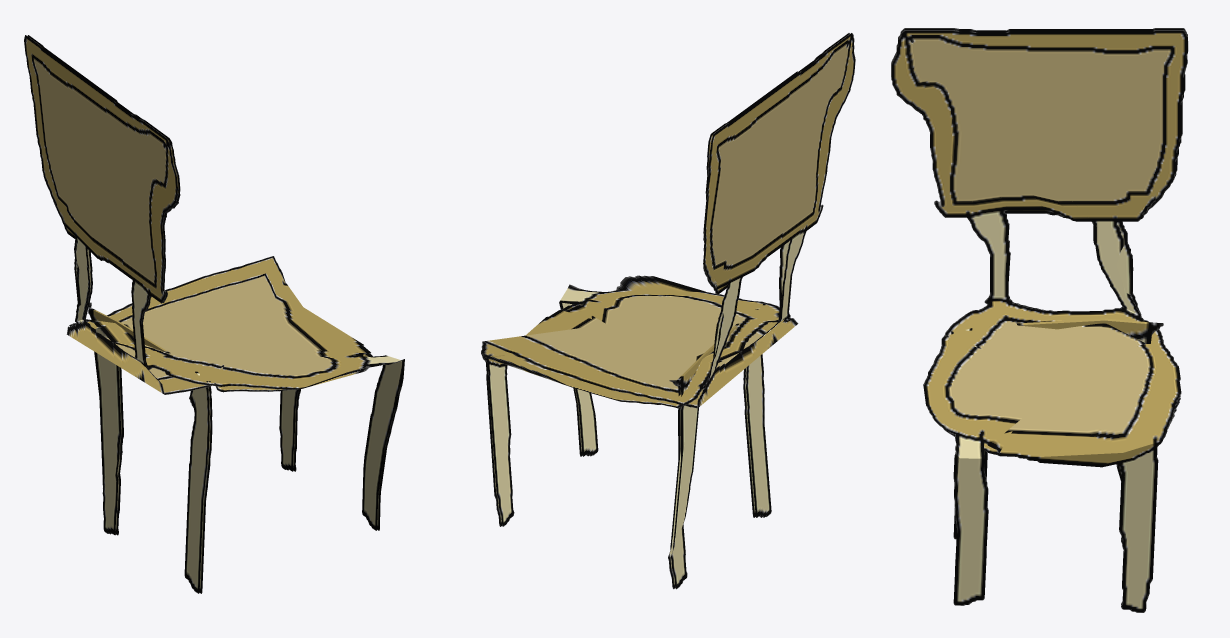
The model's file is chair.fbx.
The picture shows the model from 3 angles, left to right: view 1: azimuth 30°, elevation 25°; view 2: azimuth 150°, elevation 25°; view 3: azimuth 270°, elevation 25°; orthographic projection. The views are drawn at different scales.
Parts seen in each view (by area): view 1: Cube; view 2: Cube; view 3: Cube.
Boxes of the visible parts, box(x1,y1,x2,y2) form: Cube: box(24, 35, 404, 593); Cube: box(481, 33, 855, 589); Cube: box(891, 28, 1188, 612).
Size of the model in its own units: 94.15 by 177 by 102.
Materials: 1 (1 with a texture image).
